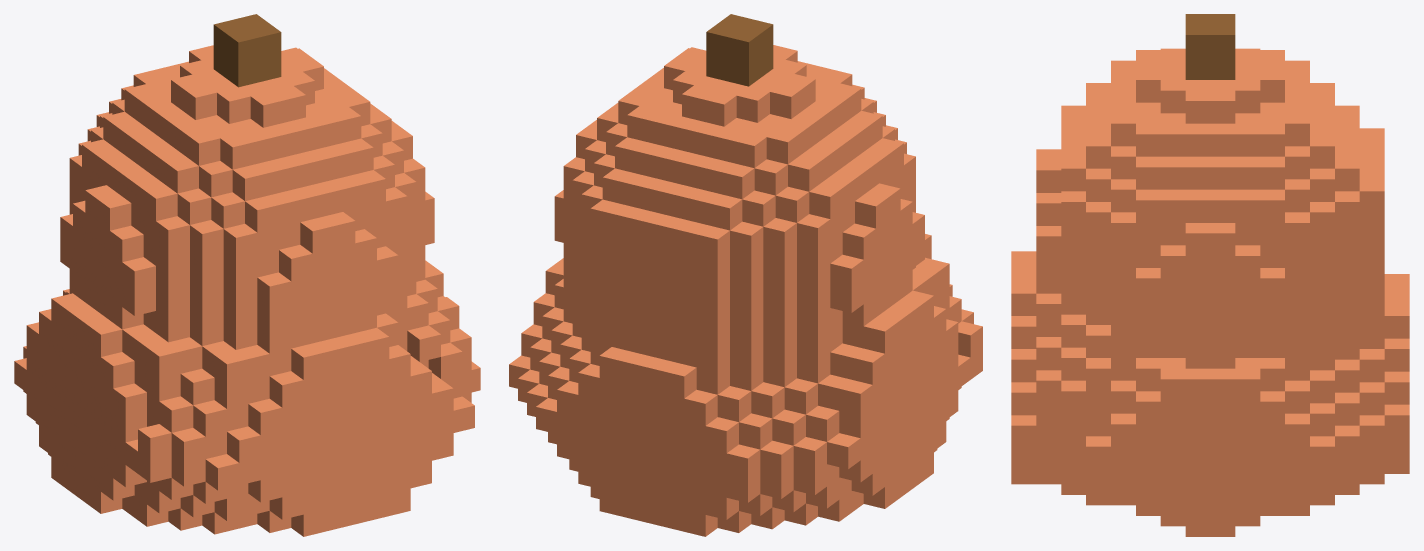
File: pumpkin.fbx
3 renders of one model, left to right at view 1: azimuth 30°, elevation 25°; view 2: azimuth 150°, elevation 25°; view 3: azimuth 270°, elevation 25°, orthographic.
Parts seen in each view (by area): view 1: Polygon; view 2: Polygon; view 3: Polygon.
Part boxes in pixels (bbox=[...]): Polygon: bbox=[14, 14, 480, 536]; Polygon: bbox=[509, 14, 982, 536]; Polygon: bbox=[1011, 14, 1409, 536].
Size of the model in its own units: 1.6 by 1.9 by 1.6.
Materials: 1 (1 with a texture image).
